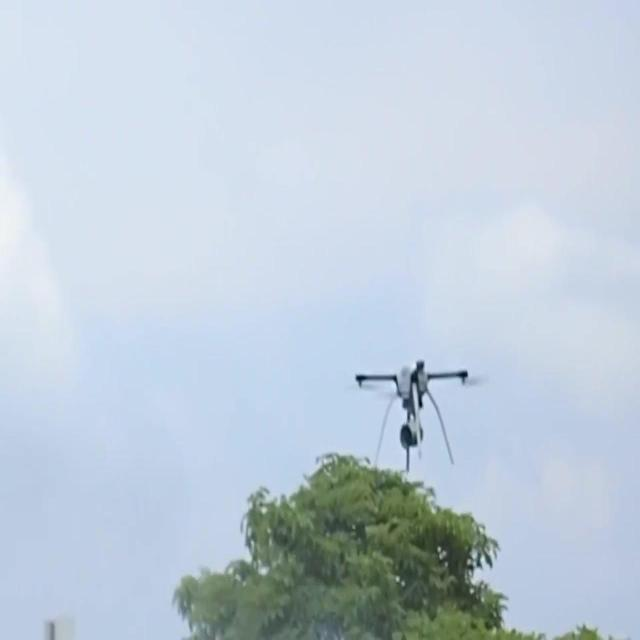drone: (354, 356, 471, 474)
